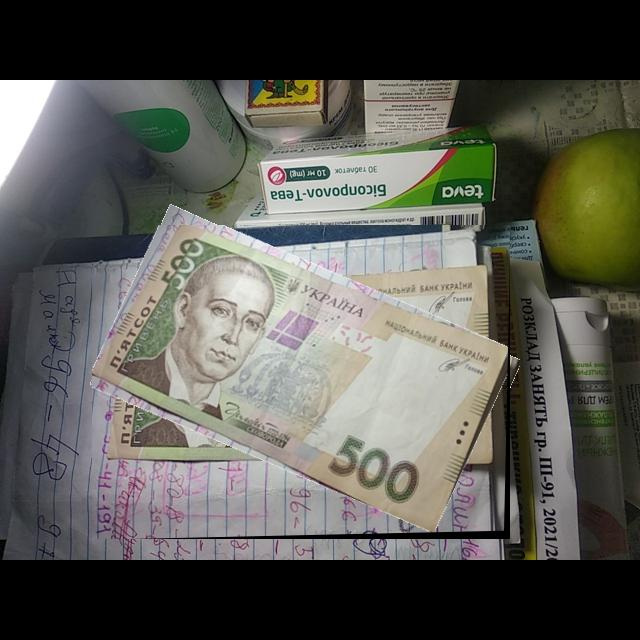500uah: (92, 225, 509, 534)
